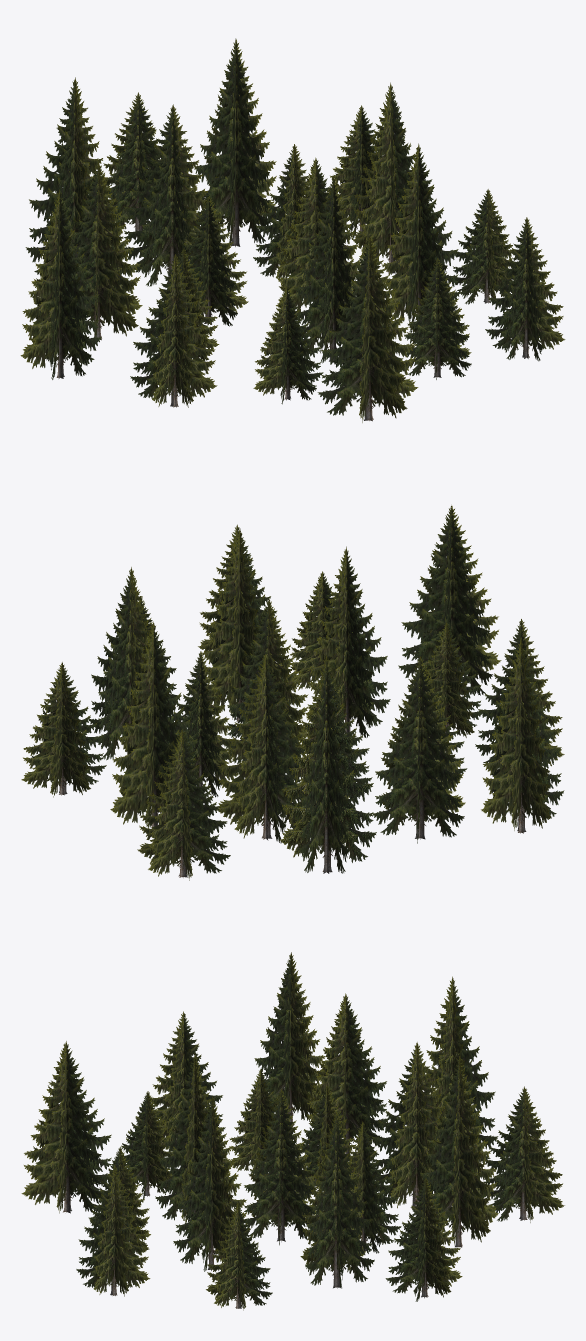
Rendered from forest-lod-1.glb.
The picture shows the model from 3 angles, top to bottom: view 1: azimuth 30°, elevation 25°; view 2: azimuth 150°, elevation 25°; view 3: azimuth 270°, elevation 25°; orthographic projection. The views are drawn at different scales.
Visible parts, largest first — view 1: forest-lod-1; view 2: forest-lod-1; view 3: forest-lod-1.
Part boxes in pixels (box(x1,y1,x2,y2)): forest-lod-1: box(20, 38, 565, 422); forest-lod-1: box(21, 505, 564, 880); forest-lod-1: box(21, 952, 564, 1310).
Size of the model in its own units: 45.52 by 19.95 by 49.89.
1 material, 1 textured.
